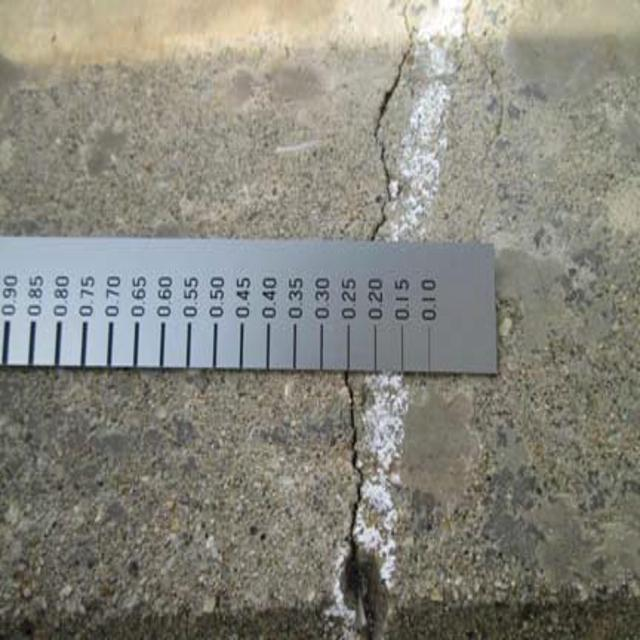crack: (318, 380, 402, 623), (347, 10, 423, 237)
